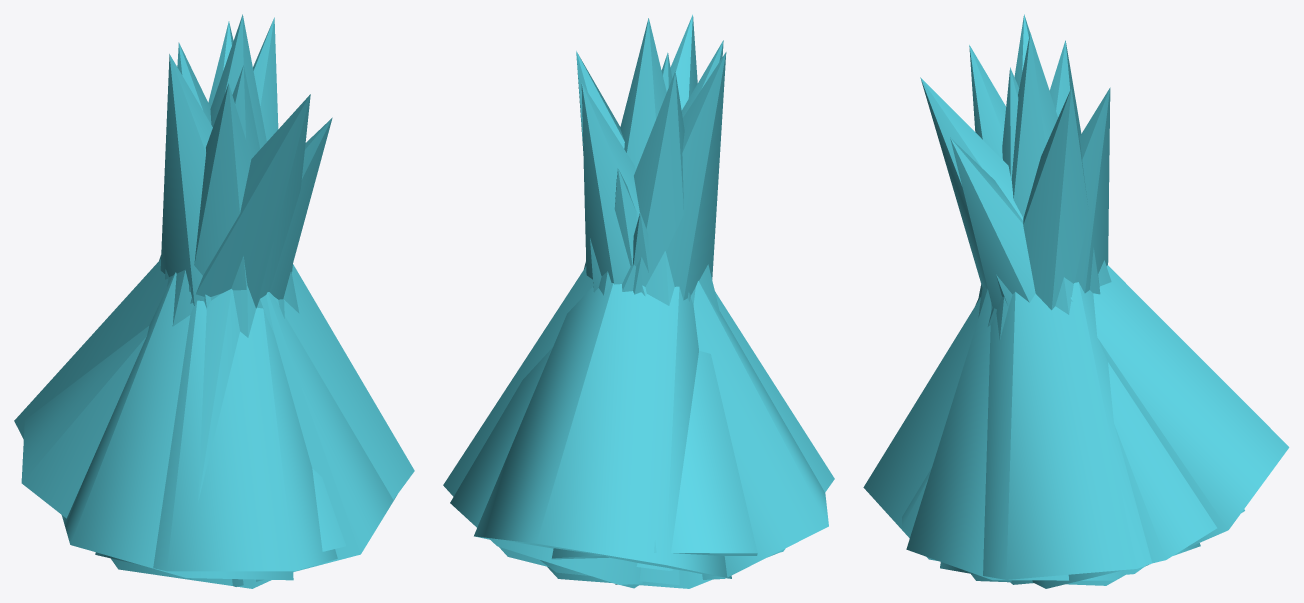
Rendered from shards.glb.
The picture shows the model from 3 angles, left to right: view 1: azimuth 30°, elevation 25°; view 2: azimuth 150°, elevation 25°; view 3: azimuth 270°, elevation 25°; orthographic projection. The views are drawn at different scales.
Visible parts, largest first — view 1: ocean-shards-01-lod0, desert-shards-05-lod0, volcanic-shards-05-lod0, gasgiant-shards-03-lod0, terrestrial-shards-04-lod0, ocean-shards-03-lod0, gasgiant-shards-04-lod0, volcanic-shards-03-lod0, desert-shards-01-lod0, ocean-shards-04-lod0; view 2: gasgiant-shards-03-lod0, desert-shards-05-lod0, volcanic-shards-05-lod0, terrestrial-shards-04-lod0, ocean-shards-01-lod0, gasgiant-shards-04-lod0, ocean-shards-03-lod0, volcanic-shards-03-lod0, desert-shards-01-lod0, ocean-shards-04-lod0, terrestrial-shards-01-lod0; view 3: volcanic-shards-05-lod0, gasgiant-shards-03-lod0, ocean-shards-03-lod0, ocean-shards-01-lod0, gasgiant-shards-04-lod0, desert-shards-05-lod0, terrestrial-shards-04-lod0, volcanic-shards-03-lod0, ocean-shards-04-lod0, desert-shards-01-lod0.
Part boxes in pixels (x1,y1,x2,y2): ocean-shards-01-lod0: (95, 21, 337, 571); desert-shards-05-lod0: (62, 17, 293, 580); volcanic-shards-05-lod0: (160, 54, 414, 499); gasgiant-shards-03-lod0: (14, 94, 310, 439); terrestrial-shards-04-lod0: (21, 117, 332, 518); ocean-shards-03-lod0: (165, 42, 396, 586); gasgiant-shards-04-lod0: (189, 83, 251, 291); volcanic-shards-03-lod0: (111, 14, 299, 588); desert-shards-01-lod0: (312, 468, 346, 551); ocean-shards-04-lod0: (232, 65, 260, 158); gasgiant-shards-03-lod0: (474, 14, 731, 578); desert-shards-05-lod0: (576, 51, 828, 584); volcanic-shards-05-lod0: (443, 52, 726, 588); terrestrial-shards-04-lod0: (551, 350, 757, 559); ocean-shards-01-lod0: (581, 83, 834, 553); gasgiant-shards-04-lod0: (450, 40, 723, 584); ocean-shards-03-lod0: (633, 71, 690, 301); volcanic-shards-03-lod0: (547, 18, 777, 588); desert-shards-01-lod0: (614, 168, 636, 266); ocean-shards-04-lod0: (540, 52, 679, 584); terrestrial-shards-01-lod0: (633, 212, 648, 272); volcanic-shards-05-lod0: (940, 14, 1200, 579); gasgiant-shards-03-lod0: (920, 77, 1289, 566); ocean-shards-03-lod0: (906, 40, 1121, 580); ocean-shards-01-lod0: (863, 87, 1110, 561); gasgiant-shards-04-lod0: (969, 45, 1244, 588); desert-shards-05-lod0: (975, 88, 1100, 326); terrestrial-shards-04-lod0: (950, 137, 1035, 309); volcanic-shards-03-lod0: (971, 32, 1124, 585); ocean-shards-04-lod0: (1002, 67, 1145, 584); desert-shards-01-lod0: (902, 468, 931, 532).
Size of what is drawn, in the model's own units: 1.53 by 2.37 by 1.72.
